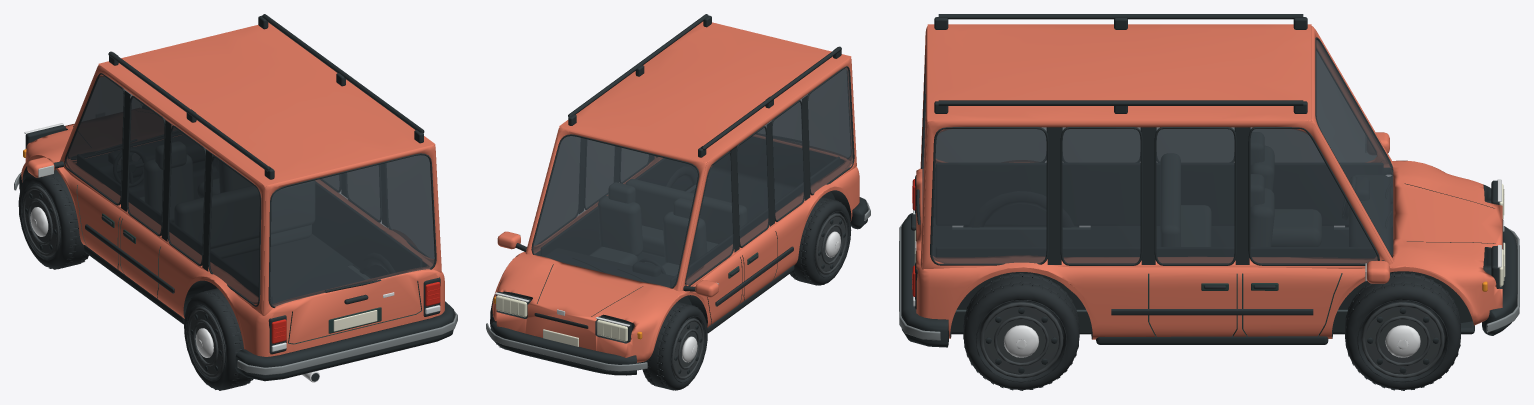
The model's file is minibus_lod1.fbx.
3 views of the same model, side by side, from view 1: azimuth 30°, elevation 25°; view 2: azimuth 150°, elevation 25°; view 3: azimuth 270°, elevation 25° (orthographic). The views are drawn at different scales.
Parts seen in each view (by area): view 1: Body, Wheel_FL_Mesh, Wheel_RL_Mesh, Wheel_RR_Mesh; view 2: Body, Wheel_FL_Mesh, Wheel_RL_Mesh; view 3: Body, Wheel_RR_Mesh, Wheel_FR_Mesh, Wheel_RL_Mesh.
Boxes of the visible parts, x1,y1,x2,y2 form: Body: [14, 14, 457, 382]; Wheel_FL_Mesh: [18, 168, 88, 269]; Wheel_RL_Mesh: [184, 288, 253, 390]; Wheel_RR_Mesh: [360, 253, 395, 278]; Body: [486, 14, 870, 375]; Wheel_FL_Mesh: [641, 301, 707, 390]; Wheel_RL_Mesh: [790, 197, 851, 285]; Body: [899, 14, 1519, 347]; Wheel_RR_Mesh: [963, 273, 1079, 390]; Wheel_FR_Mesh: [1345, 272, 1460, 390]; Wheel_RL_Mesh: [963, 191, 1078, 227].
Size of the model in its own units: 240 by 222 by 449.
